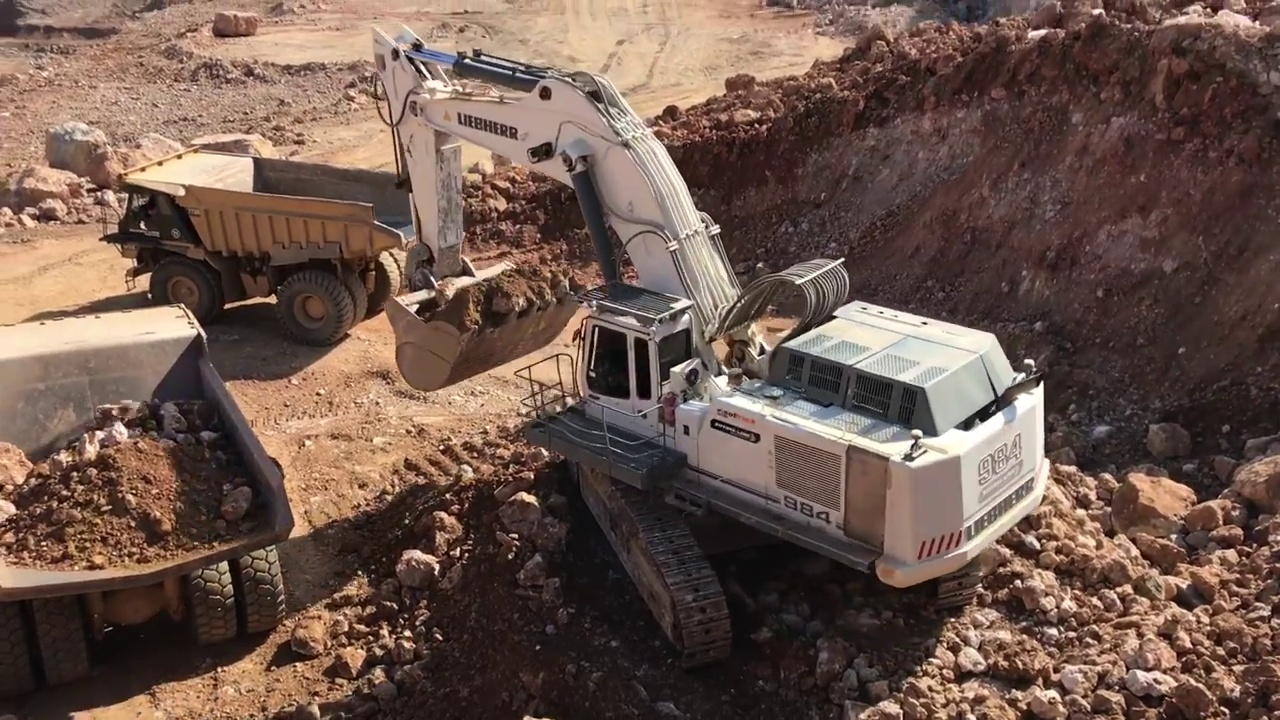dumper: (365, 22, 1051, 663), (1, 304, 295, 684), (101, 147, 411, 344)
